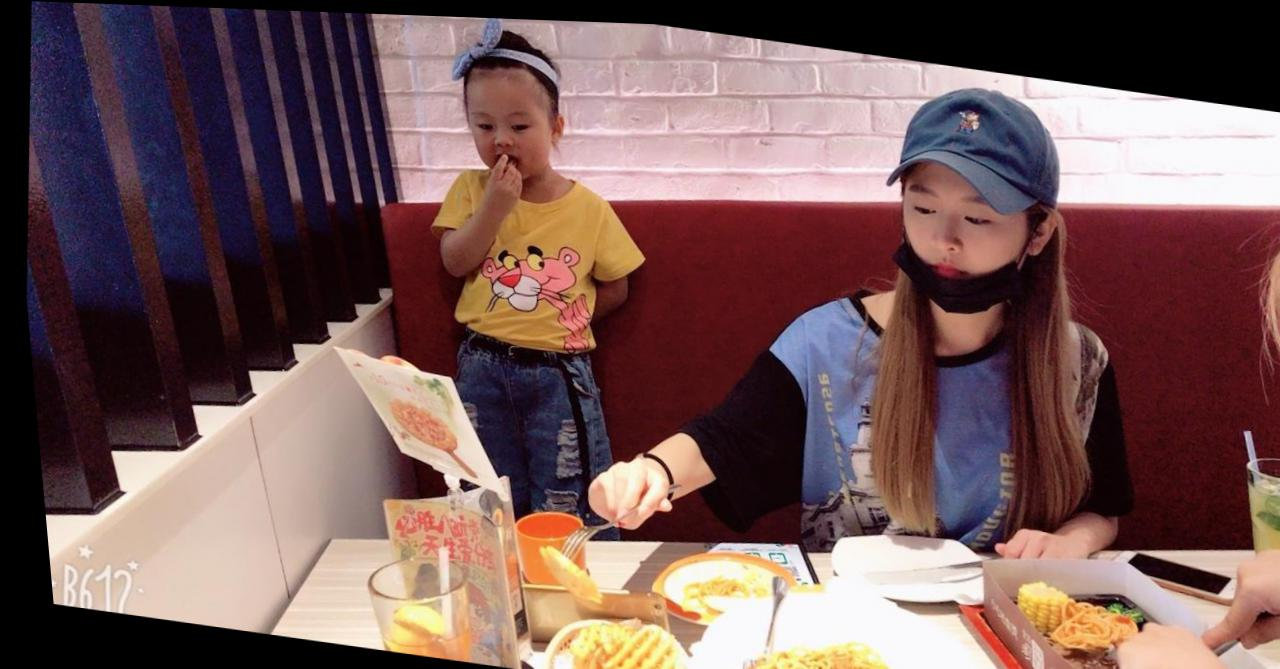NONE: (464, 97, 562, 182)
WRONG: (884, 175, 1028, 313)
